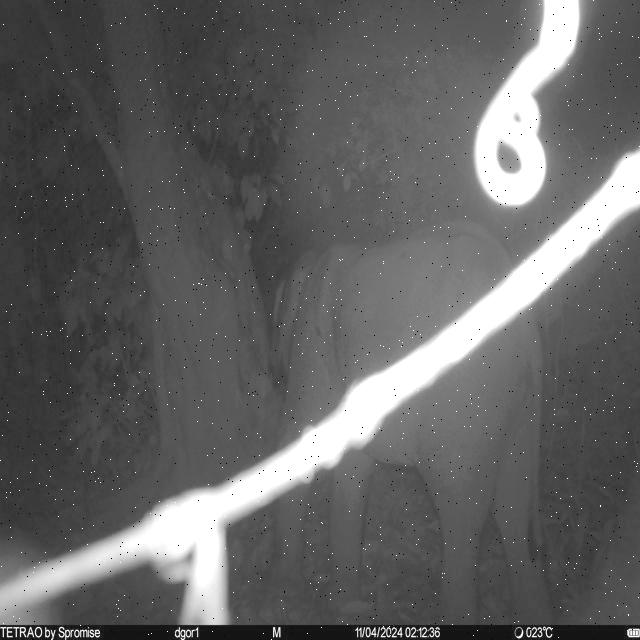calf: (269, 221, 554, 624)
